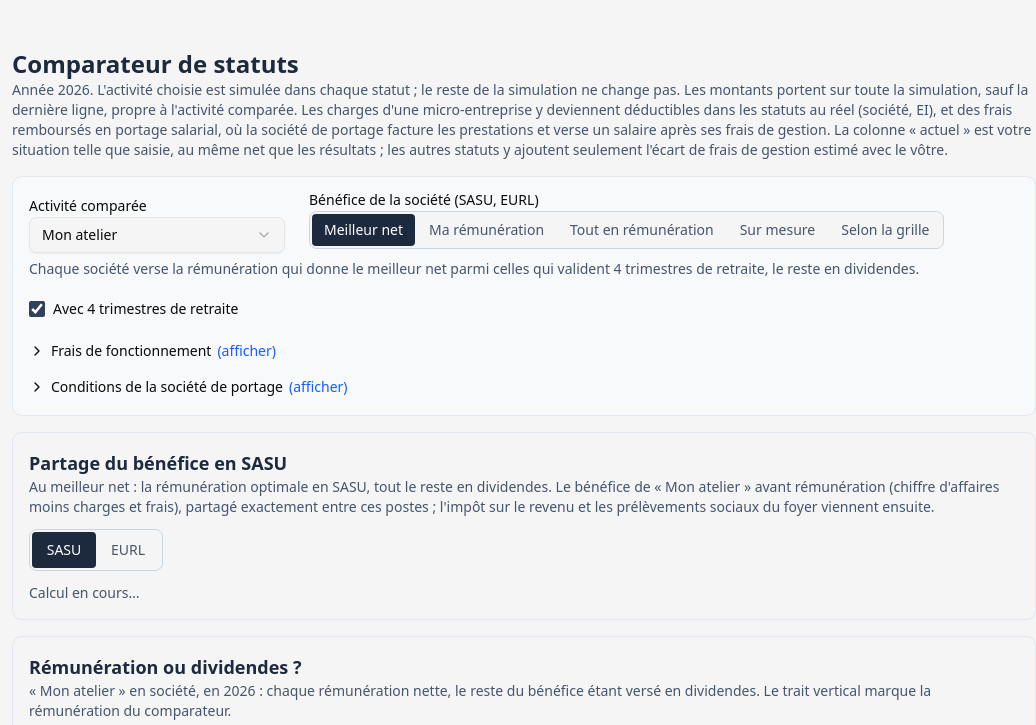
ComparatorPanel › au meilleur net, la case « avec 4 trimestres de retraite », cochée d'office, rejoint décochée les réglages du comparateur
This screenshot has width=1036, height=725.
Click the checkbox labelled "Avec 4 trimestres de retraite": (37,309) [29,301,45,317]
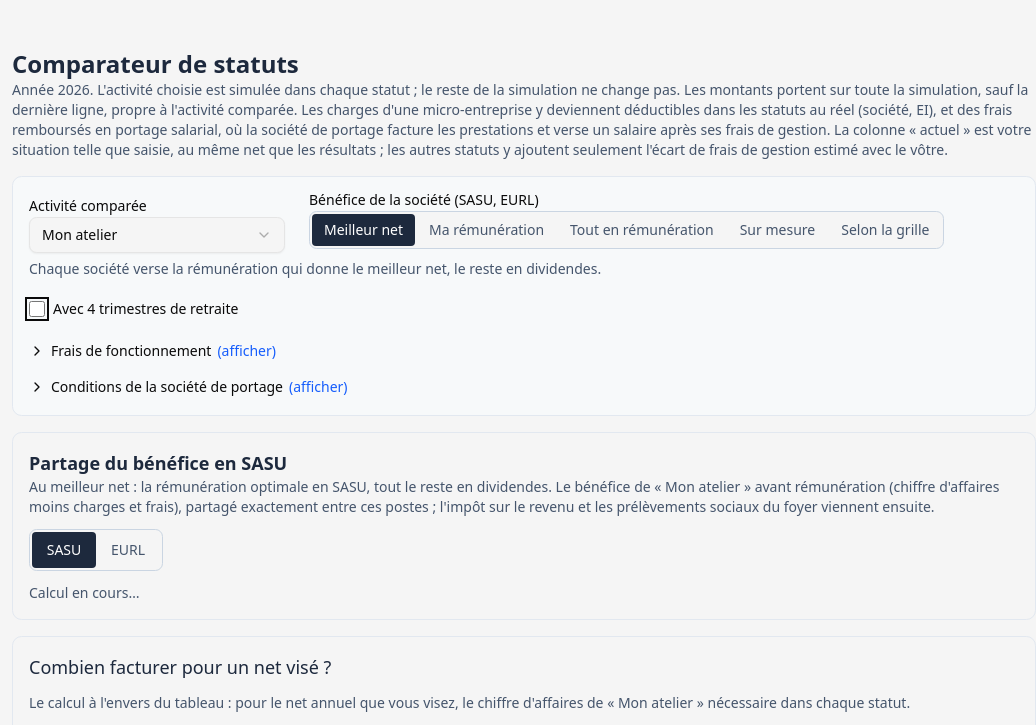
Expected: the checkbox labelled "Avec 4 trimestres de retraite" is not checked, [29,301,45,317]
# Décochée, elle le reste en passant par un autre mode.
Click the radio button labelled "Tout en rémunération": (642,230) [570,220,714,239]
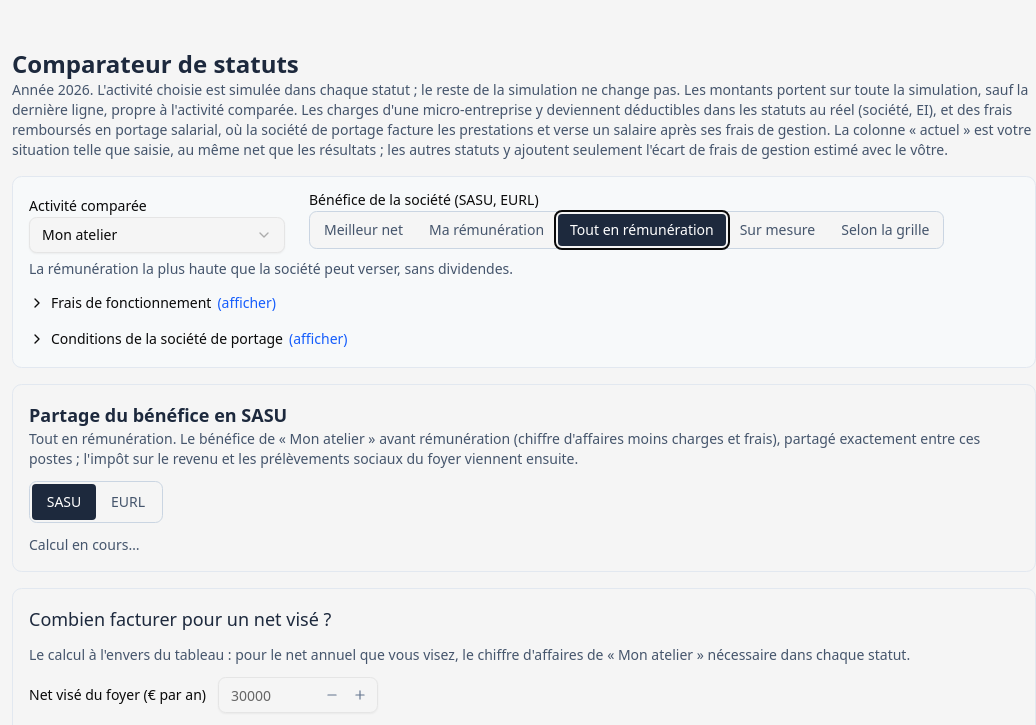
Click the radio button labelled "Meilleur net": (364,230) [324,220,403,239]
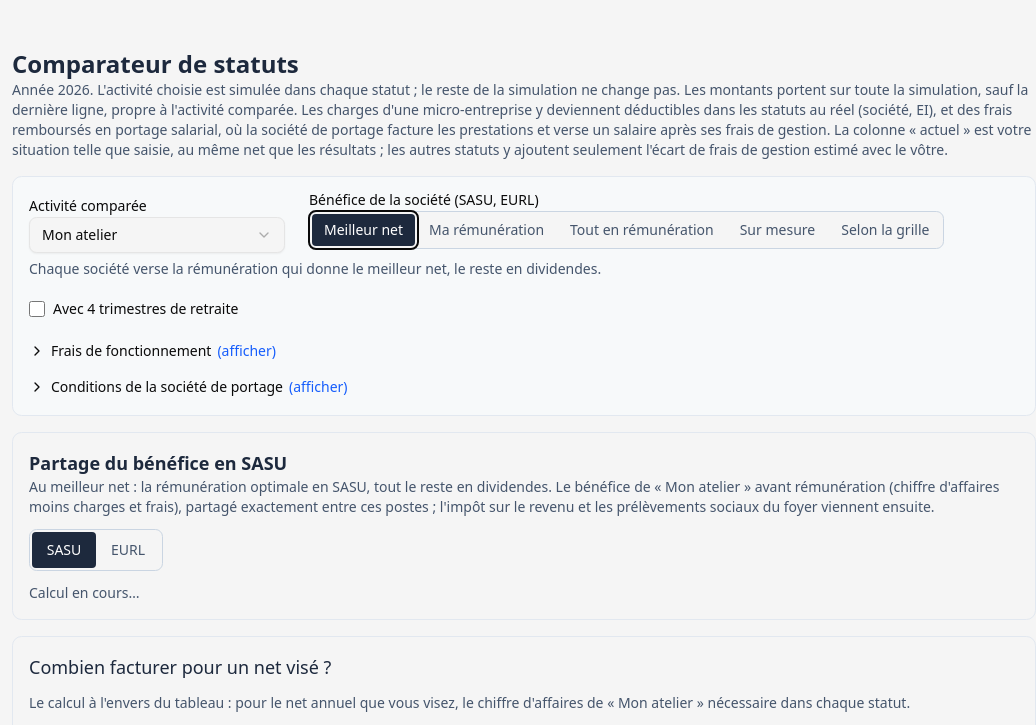
Expected: the checkbox labelled "Avec 4 trimestres de retraite" is not checked, [29,301,45,317]
Click the radio button labelled "Ma rémunération": (486,230) [429,220,544,239]
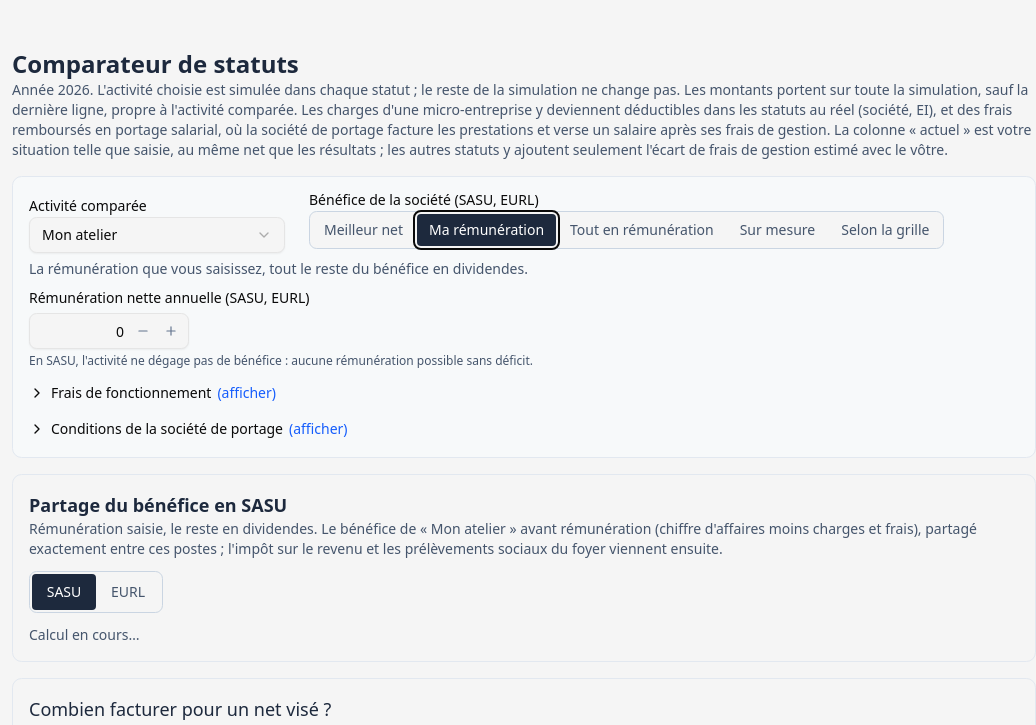
Expected: the label "Avec 4 trimestres de retraite" is gone
Expected: the number field labelled "Rémunération nette annuelle (SASU, EURL)" is shown, [29,313,189,349]
